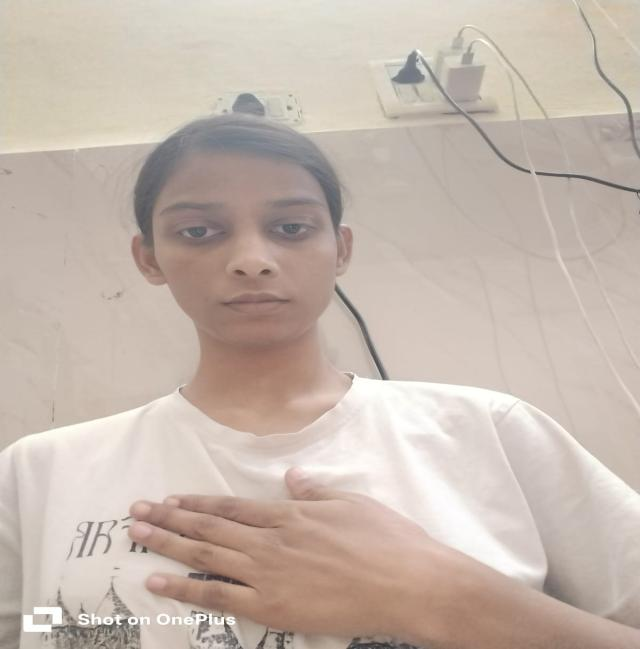Please: (116, 465, 486, 645)
